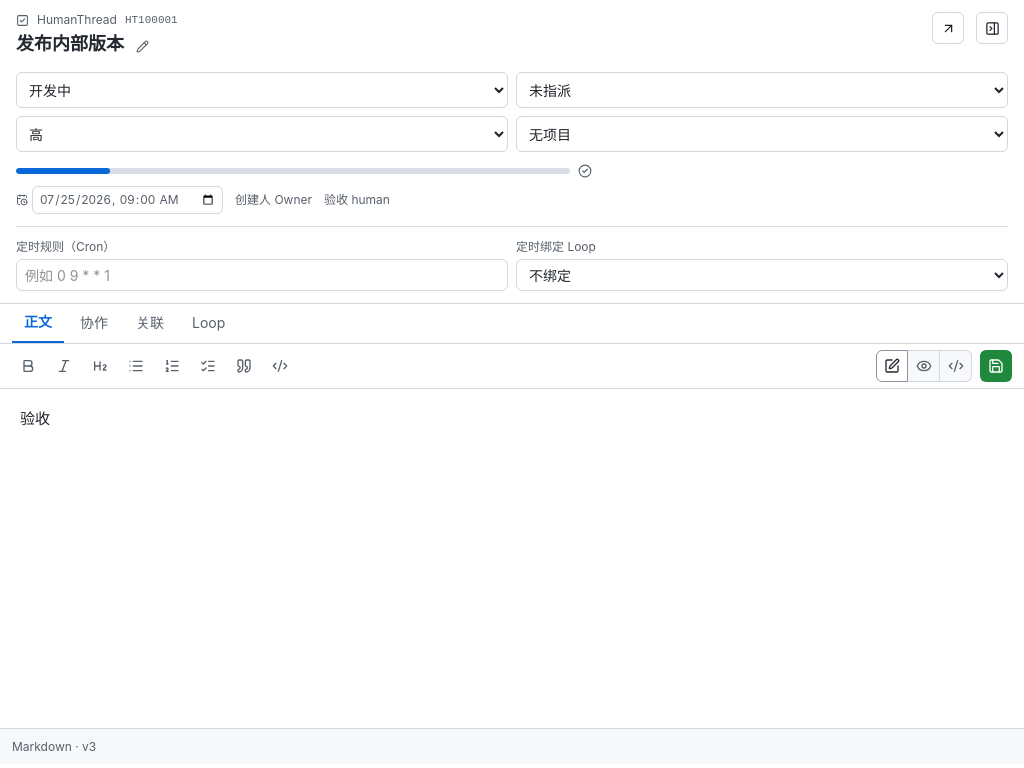
Test case: TaskDetail › exposes restart for a worker failure waiting for intervention
The width and height of the screenshot is (1024, 768).
Click the tab "Loop".
click(209, 323)  # box [180,303,237,343]
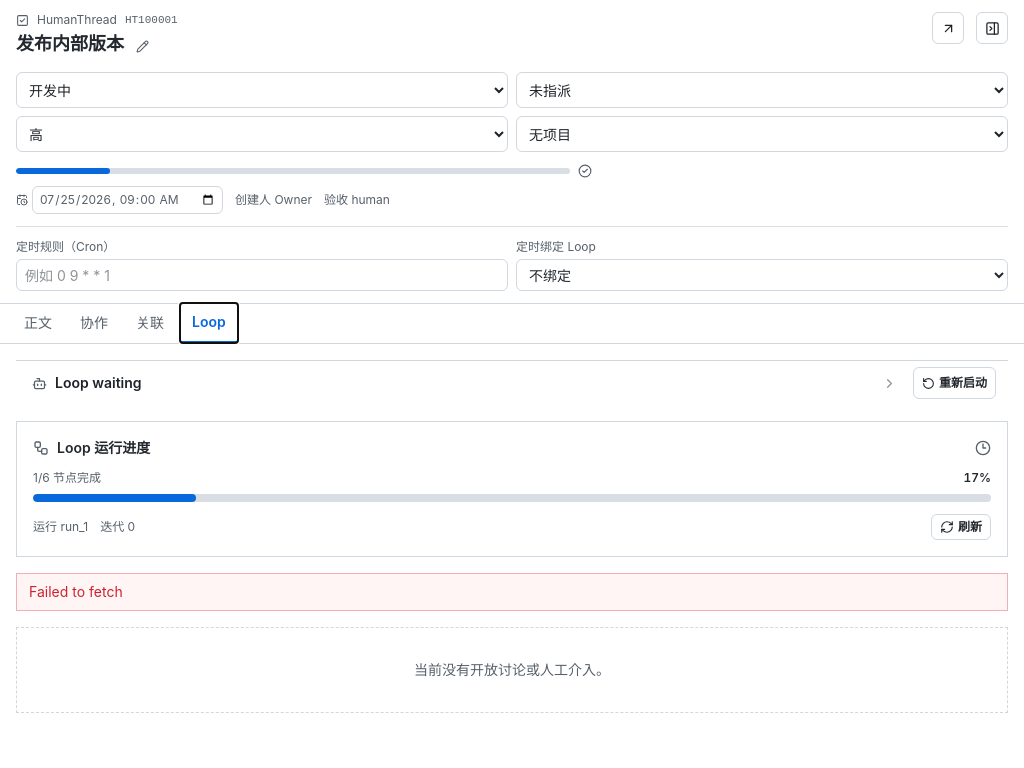
Check: the button with aria-label "重新启动任务 Loop" is shown, box [913,367,996,399]
